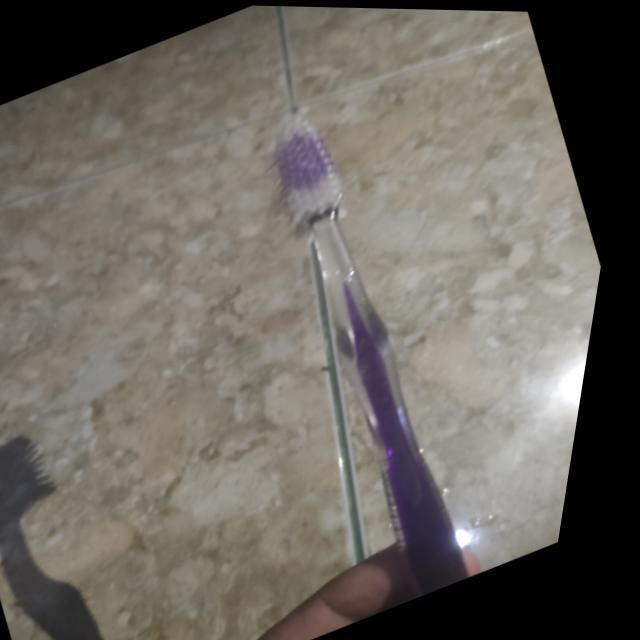toothbrush: (217, 96, 539, 600)
